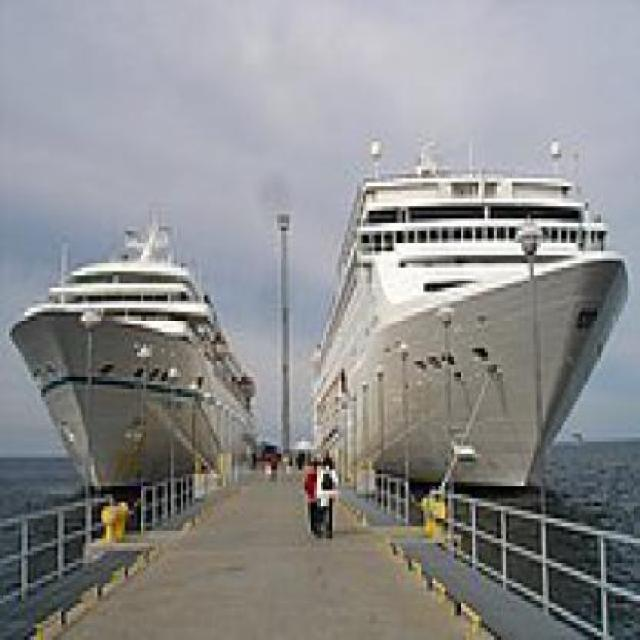cruise: (287, 127, 638, 520), (4, 208, 270, 499)
